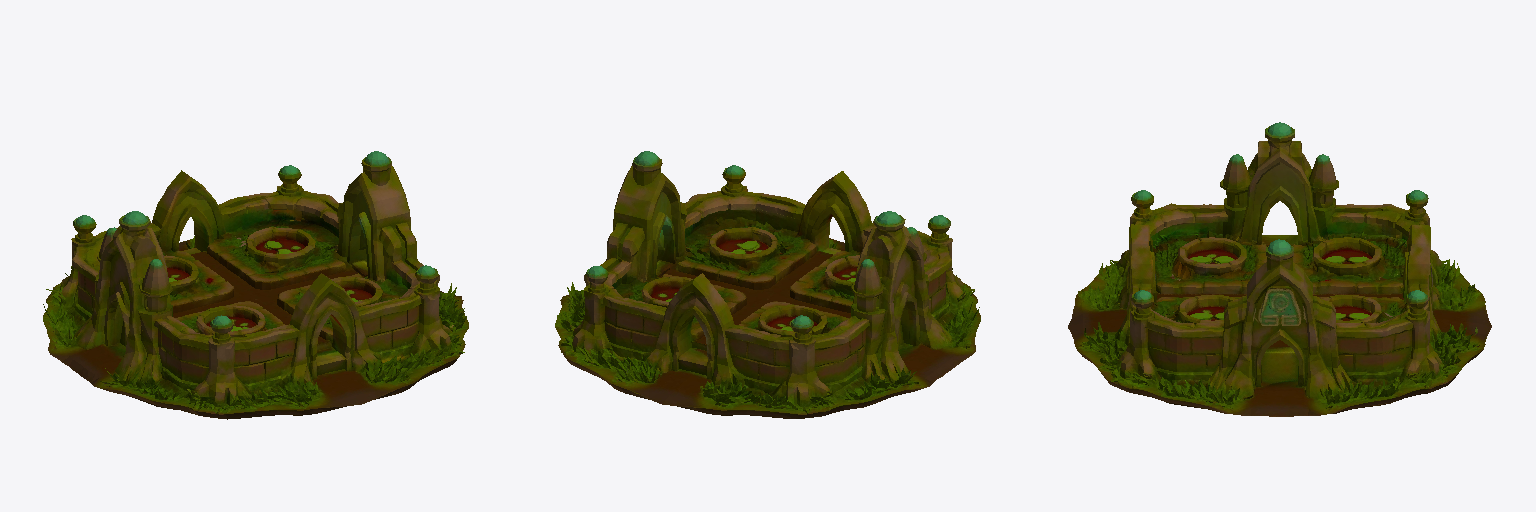
The picture shows the model from 3 angles: view 1: azimuth 30°, elevation 25°; view 2: azimuth 150°, elevation 25°; view 3: azimuth 270°, elevation 25°; orthographic projection.
Parts seen in each view (by area): view 1: tripo_node_3b8e02a0-39d3-4ebb-83b3-246933f266a2; view 2: tripo_node_3b8e02a0-39d3-4ebb-83b3-246933f266a2; view 3: tripo_node_3b8e02a0-39d3-4ebb-83b3-246933f266a2.
Part boxes in pixels (x1,y1,x2,y2): tripo_node_3b8e02a0-39d3-4ebb-83b3-246933f266a2: (43, 151, 468, 419); tripo_node_3b8e02a0-39d3-4ebb-83b3-246933f266a2: (555, 151, 980, 418); tripo_node_3b8e02a0-39d3-4ebb-83b3-246933f266a2: (1068, 122, 1491, 416).
Size of the model in its own units: 0.9989 by 0.3847 by 0.9989.
1 materials, 1 textured.